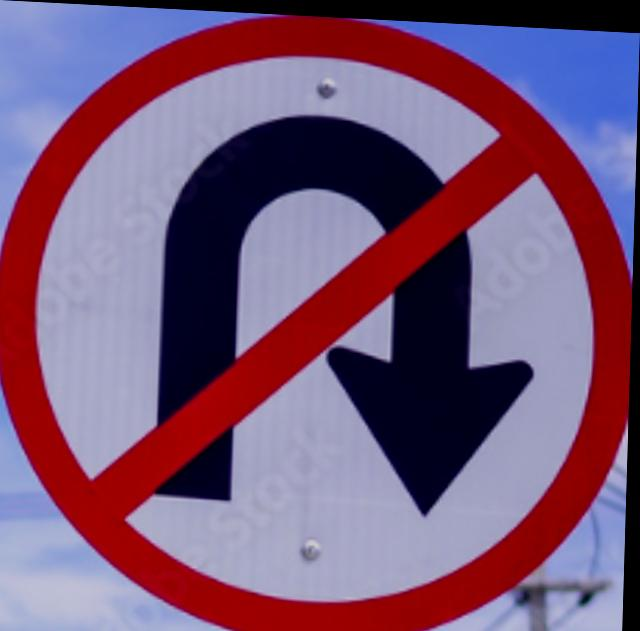not_u_turn_right: (6, 1, 624, 629)
